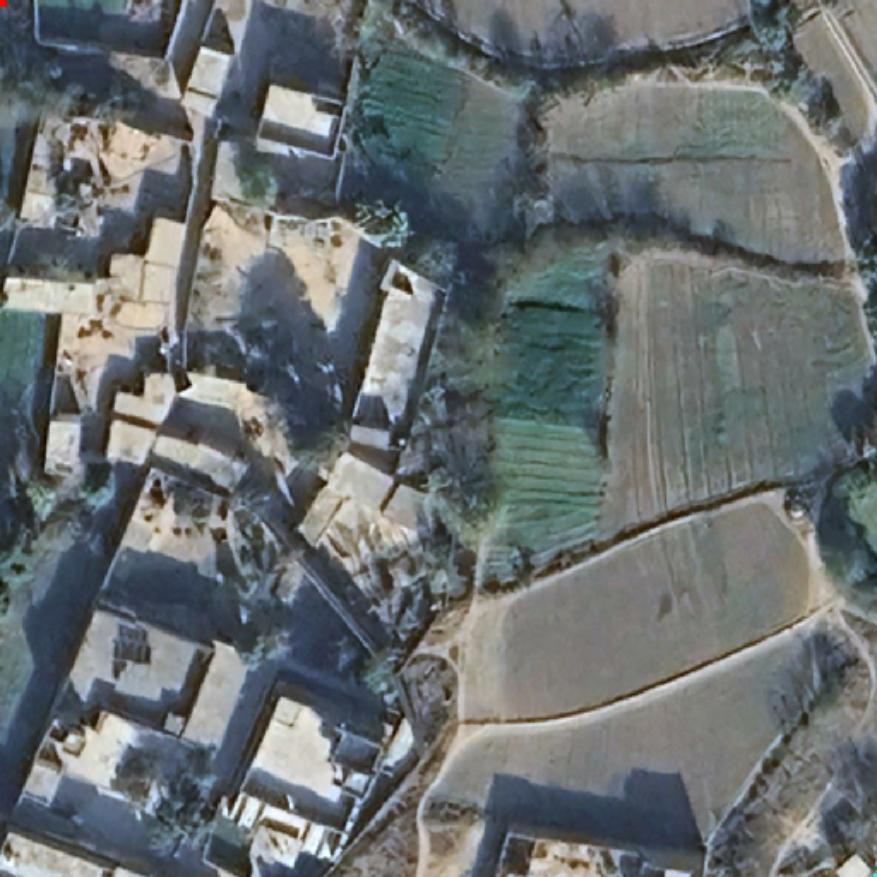Solarpanel: (108, 625, 152, 666)
